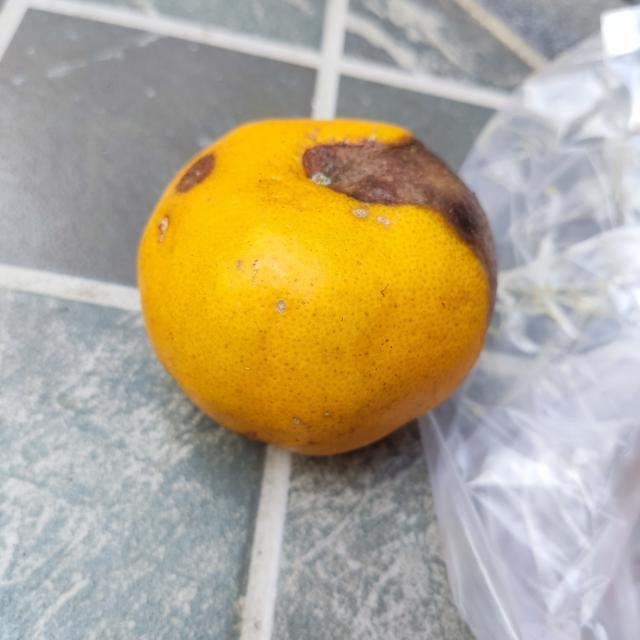agrume: (134, 113, 502, 459)
